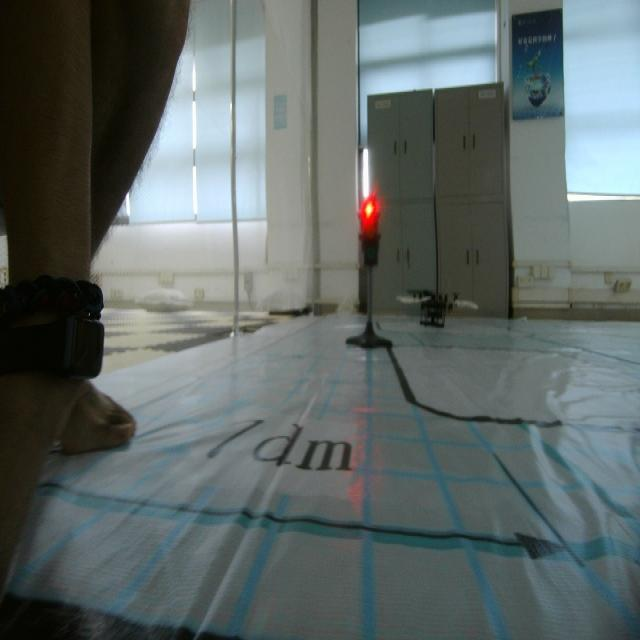red: (352, 192, 382, 276)
